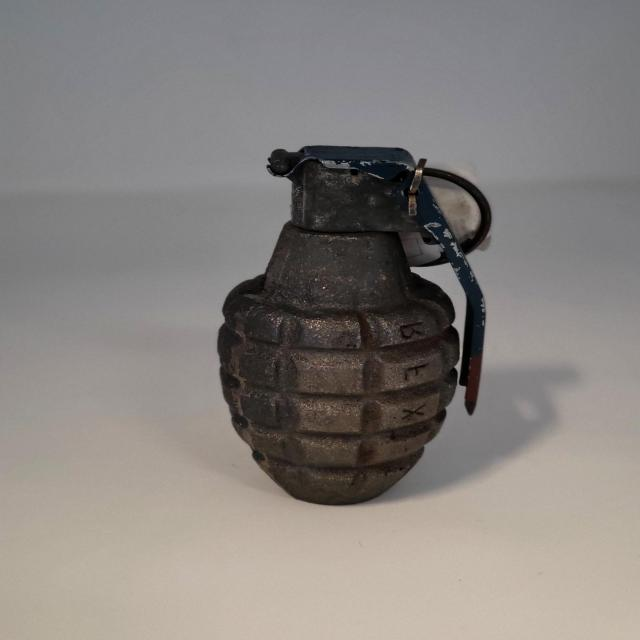grenade: (219, 148, 488, 508)
